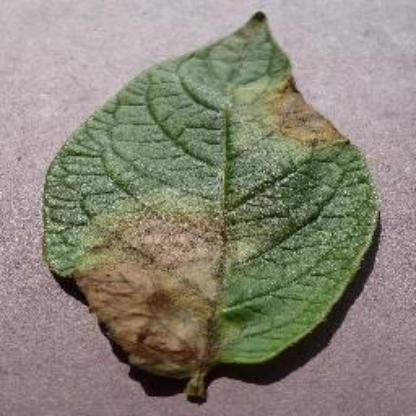Late-Blight: (39, 8, 385, 402)
